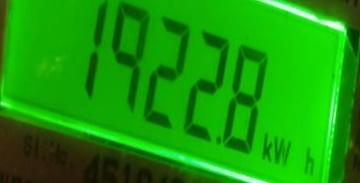.: (260, 130, 317, 176)
0: (214, 133, 223, 147)
2: (85, 0, 112, 99)
3: (143, 15, 189, 131), (184, 29, 229, 142)
9: (225, 48, 266, 154)
:: (112, 2, 150, 112)
